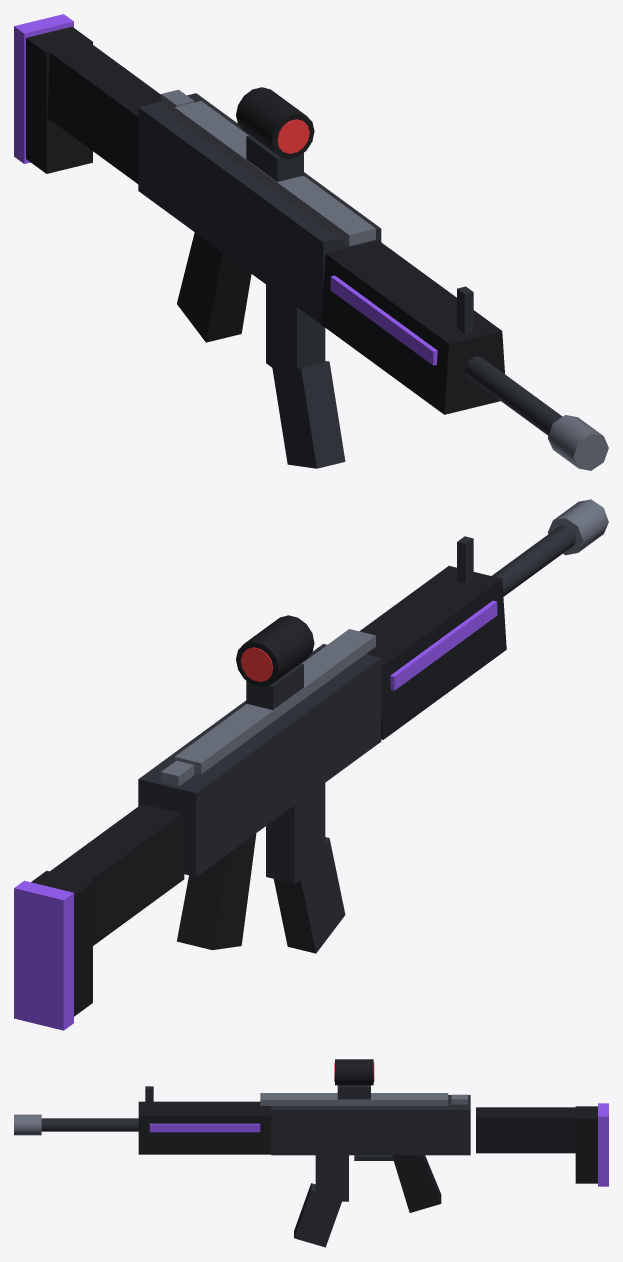
File: AssaultRifle.obj
3 renders of one model, top to bottom at view 1: azimuth 30°, elevation 25°; view 2: azimuth 150°, elevation 25°; view 3: azimuth 270°, elevation 25°, orthographic. The views are drawn at different scales.
Parts seen in each view (by area): view 1: Receiver, Handguard, Stock, Mag, Rail, Grip, SightTube, Barrel, ButtPad, MuzzleBrake, HandguardStripe, SightBase (+2 smaller); view 2: Receiver, Stock, Handguard, Mag, ButtPad, Grip, Rail, SightTube, Barrel, HandguardStripe, MuzzleBrake, SightBase (+2 smaller); view 3: Receiver, Stock, Handguard, Mag, Rail, Grip, Barrel, HandguardStripe, SightTube, ButtPad, MuzzleBrake, SightBase.
Boxes of the visible parts, x1,y1,x2,y2 form: Receiver: (138, 93, 381, 324); Handguard: (321, 240, 504, 414); Stock: (26, 26, 160, 183); Mag: (266, 284, 345, 468); Rail: (174, 101, 375, 246); Grip: (177, 232, 251, 342); SightTube: (236, 87, 314, 159); Barrel: (465, 356, 562, 435); ButtPad: (14, 14, 73, 163); MuzzleBrake: (548, 415, 608, 470); HandguardStripe: (330, 275, 437, 365); SightBase: (246, 135, 303, 181); Receiver: (138, 644, 381, 876); Stock: (31, 804, 184, 1016); Handguard: (359, 566, 506, 739); Mag: (266, 783, 345, 953); ButtPad: (14, 880, 73, 1030); Grip: (176, 833, 256, 950); Rail: (174, 629, 375, 774); SightTube: (236, 615, 314, 687); Barrel: (492, 525, 575, 596); HandguardStripe: (390, 600, 497, 690); MuzzleBrake: (547, 499, 608, 555); SightBase: (246, 663, 303, 709); Receiver: (271, 1095, 470, 1155); Stock: (476, 1106, 597, 1183); Handguard: (138, 1101, 271, 1154); Mag: (294, 1155, 348, 1247); Rail: (260, 1093, 448, 1105); Grip: (392, 1155, 441, 1212); Barrel: (41, 1118, 138, 1131); HandguardStripe: (149, 1123, 260, 1132); SightTube: (335, 1059, 373, 1085); ButtPad: (598, 1103, 608, 1186); MuzzleBrake: (14, 1114, 41, 1135); SightBase: (337, 1085, 370, 1099).
Bounding box in the file's own units: 0.072 × 0.3652 × 1.08.
